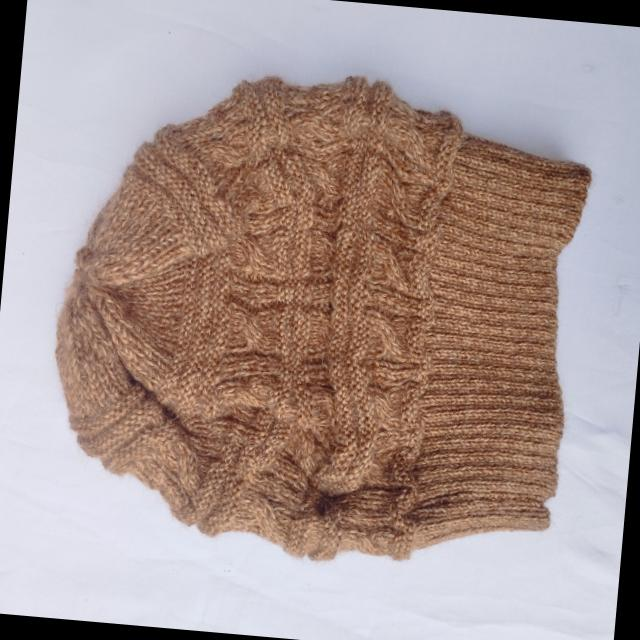Gorro: (37, 51, 599, 583)
